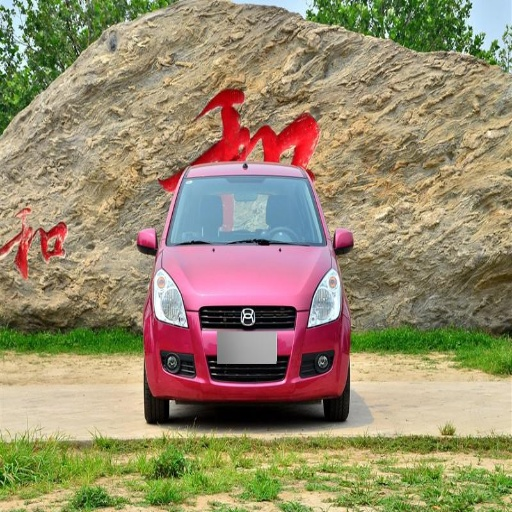front_bumper: (148, 308, 346, 402)
front_right_light: (152, 275, 189, 328)
hood: (161, 246, 332, 309)
